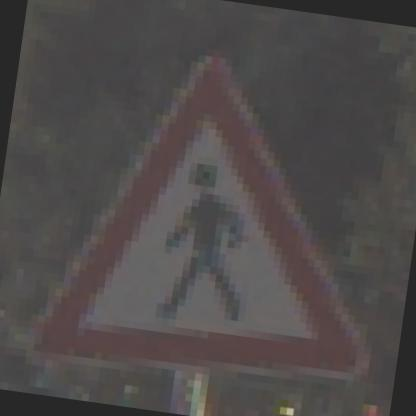crosswalk: (15, 12, 415, 411)
